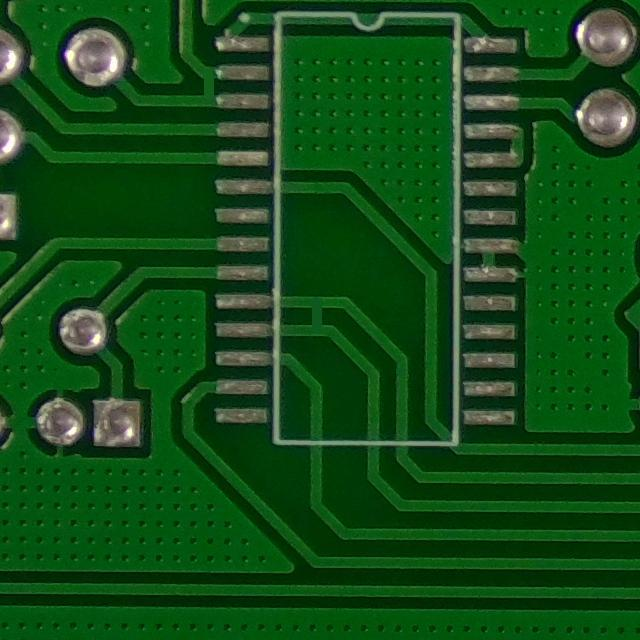short: (294, 291, 347, 349)
